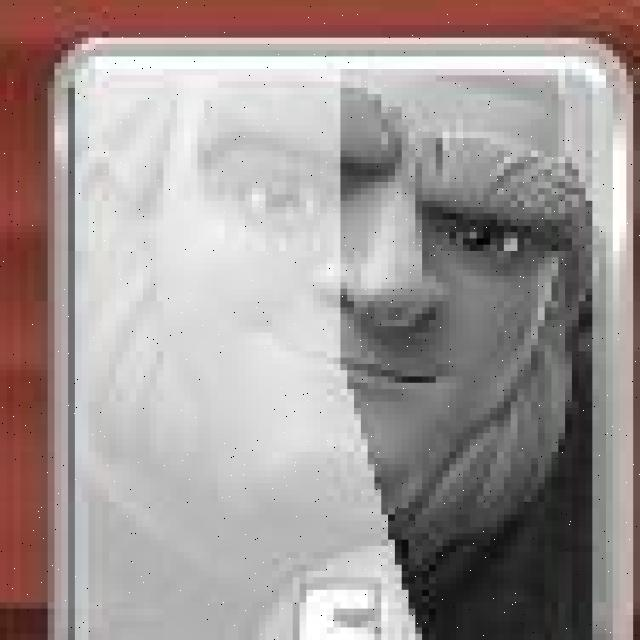Giant: (52, 41, 640, 640)
